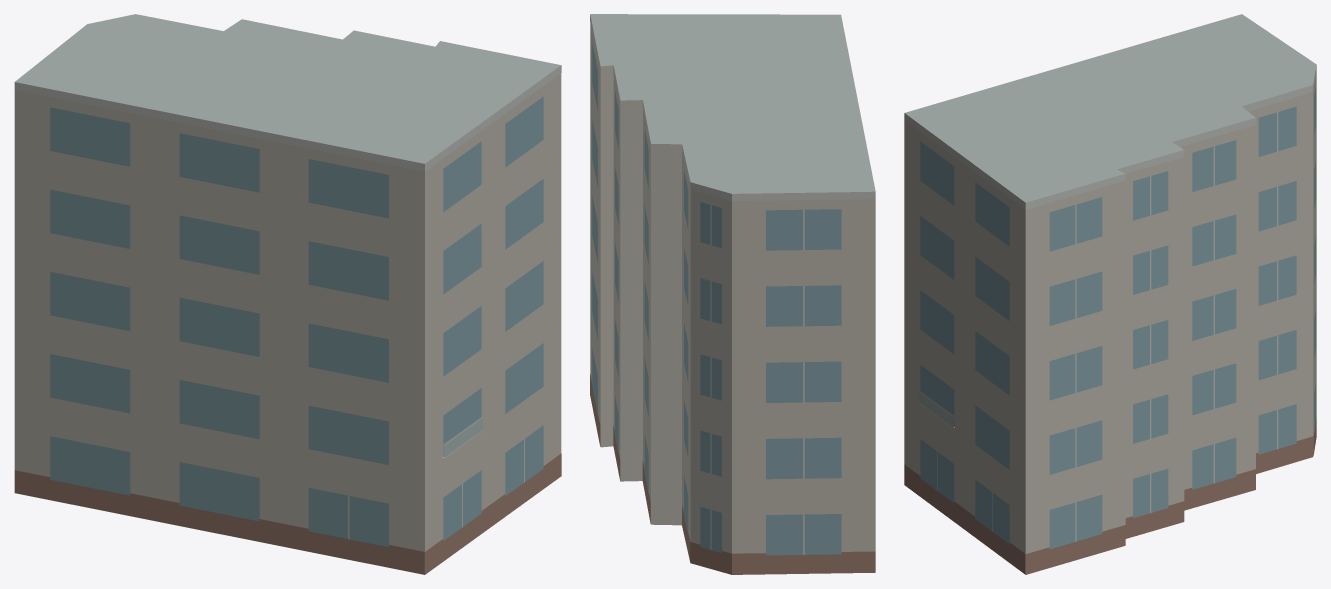
File: survey-upis-32978087.glb
3 views of the same model, side by side, from view 1: azimuth 30°, elevation 25°; view 2: azimuth 150°, elevation 25°; view 3: azimuth 270°, elevation 25° (orthographic). The views are drawn at different scales.
Parts seen in each view (by area): view 1: survey-upis-32978087.tmp; view 2: survey-upis-32978087.tmp; view 3: survey-upis-32978087.tmp.
Part boxes in pixels (x1,y1,x2,y2): survey-upis-32978087.tmp: (14,14,561,574); survey-upis-32978087.tmp: (590,14,875,574); survey-upis-32978087.tmp: (904,14,1316,574).
Size of the model in its own units: 13.94 by 12.8 by 12.86.
